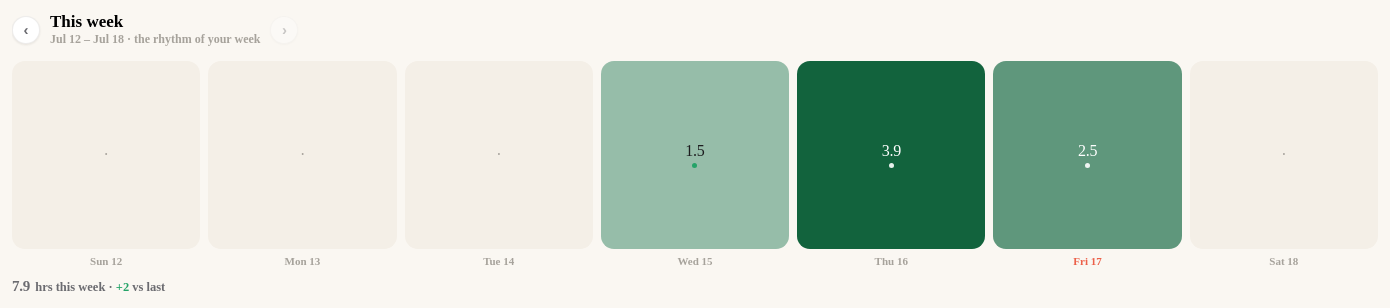
Scenario: WeekHeatmap › navigates to the previous week, and blocks paging past the current week
Check: the button named "Next week" is disabled, box [270,16,298,44]
Click the button named "Previous week".
click(26, 30)  # box [12,16,40,44]
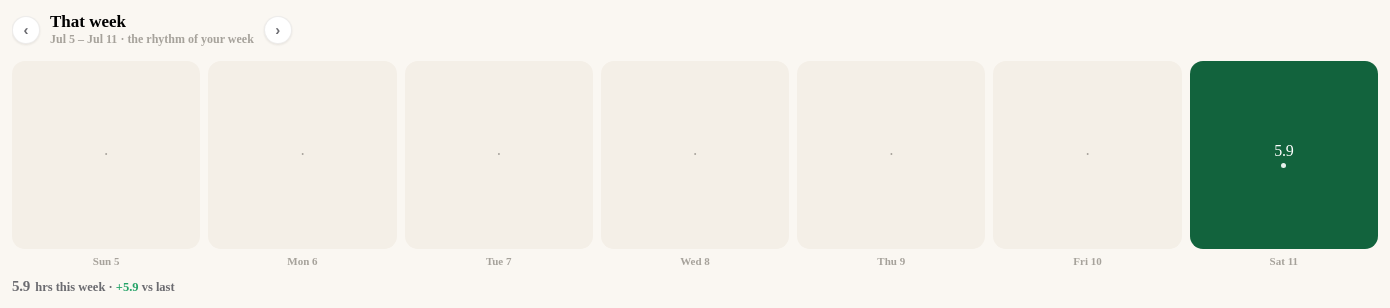
Check: the text "That week" is shown, box [50,12,126,31]
Check: the text "Jul 5 – Jul 11 · the rhythm of your week" is shown, box [50,32,254,47]
Check: the button named "Next week" is enabled
Click the button named "Next week".
click(278, 30)  # box [264,16,292,44]
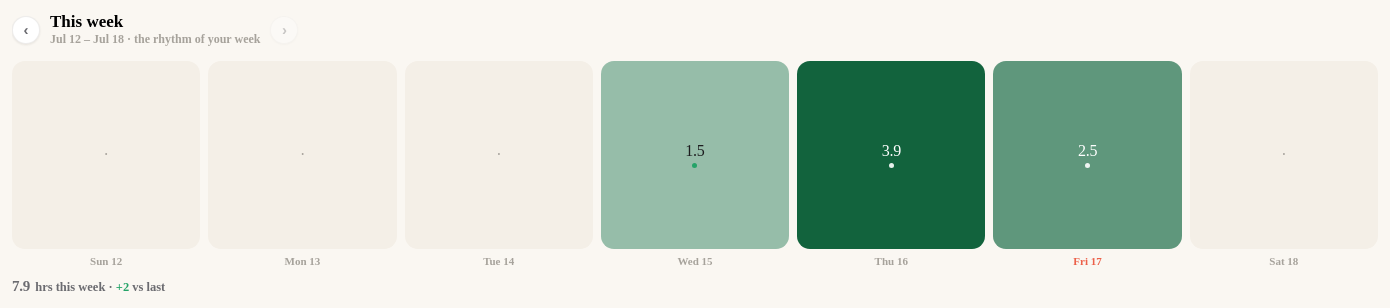
Check: the text "This week" is shown, box [50,12,123,31]
Check: the button named "Next week" is disabled, box [270,16,298,44]
